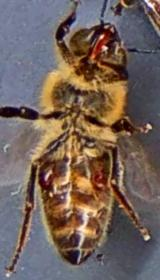varroa_mite: (87, 160, 115, 192), (35, 158, 59, 189)
